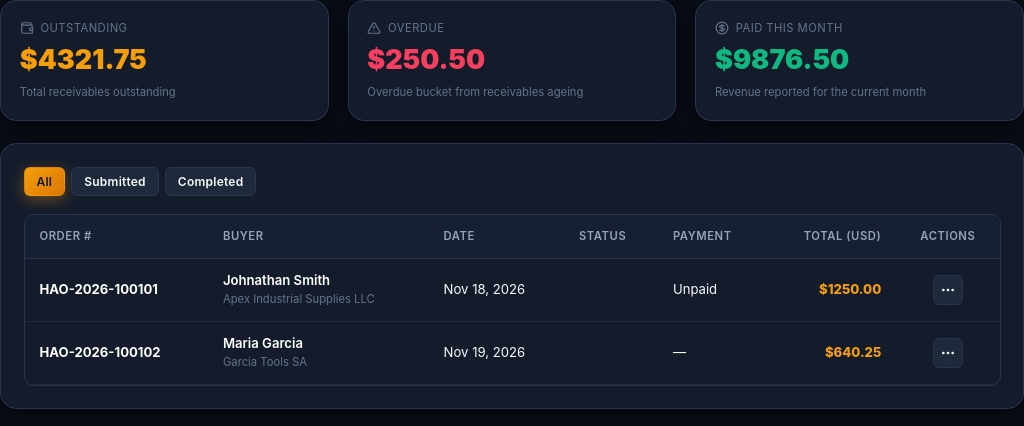
InvoicesTab (FE-11) › status filter chips are built from the loaded data and filter rows
Expected: the text "HAO-2026-100101" is shown, x1=40 y1=281 x2=158 y2=297
Click the button "Completed".
click(211, 181)  # box x1=165 y1=166 x2=256 y2=196
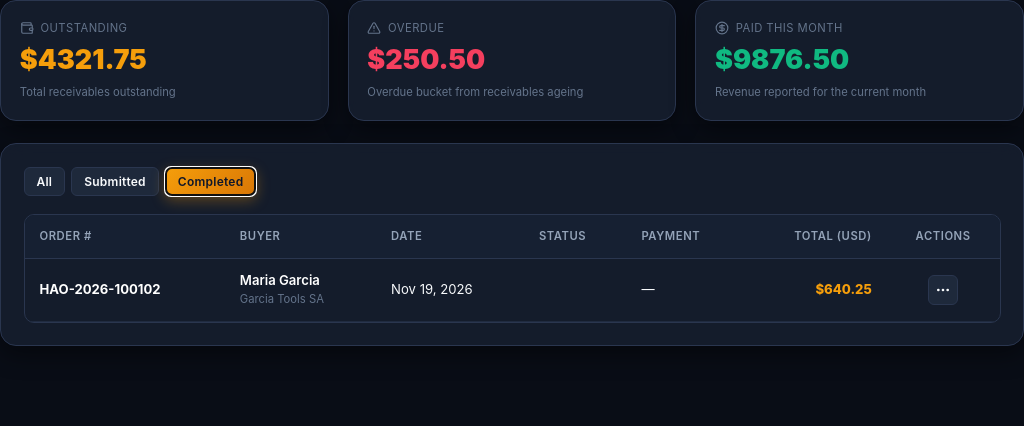
Expected: the text "HAO-2026-100102" is shown, x1=40 y1=281 x2=161 y2=297
Expected: the text "HAO-2026-100101" is gone
Click the button "All".
click(44, 181)  # box x1=24 y1=166 x2=65 y2=196
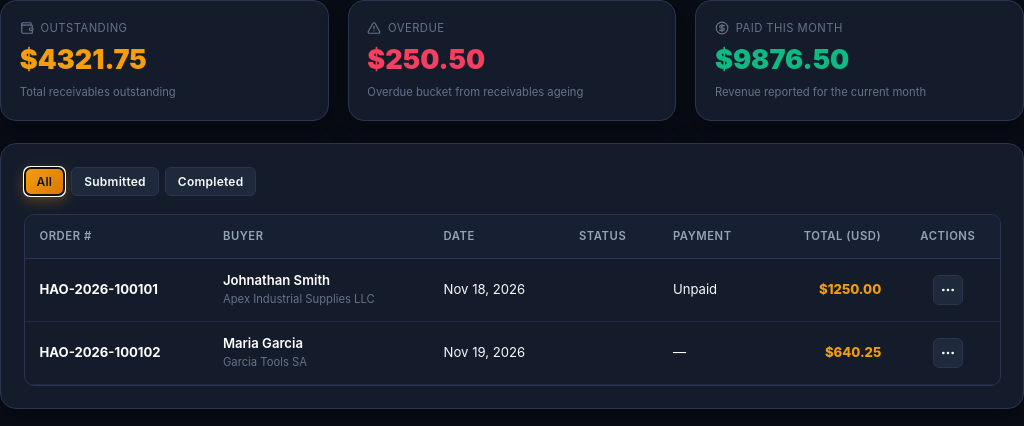
Expected: the text "HAO-2026-100101" is shown, x1=40 y1=281 x2=158 y2=297
